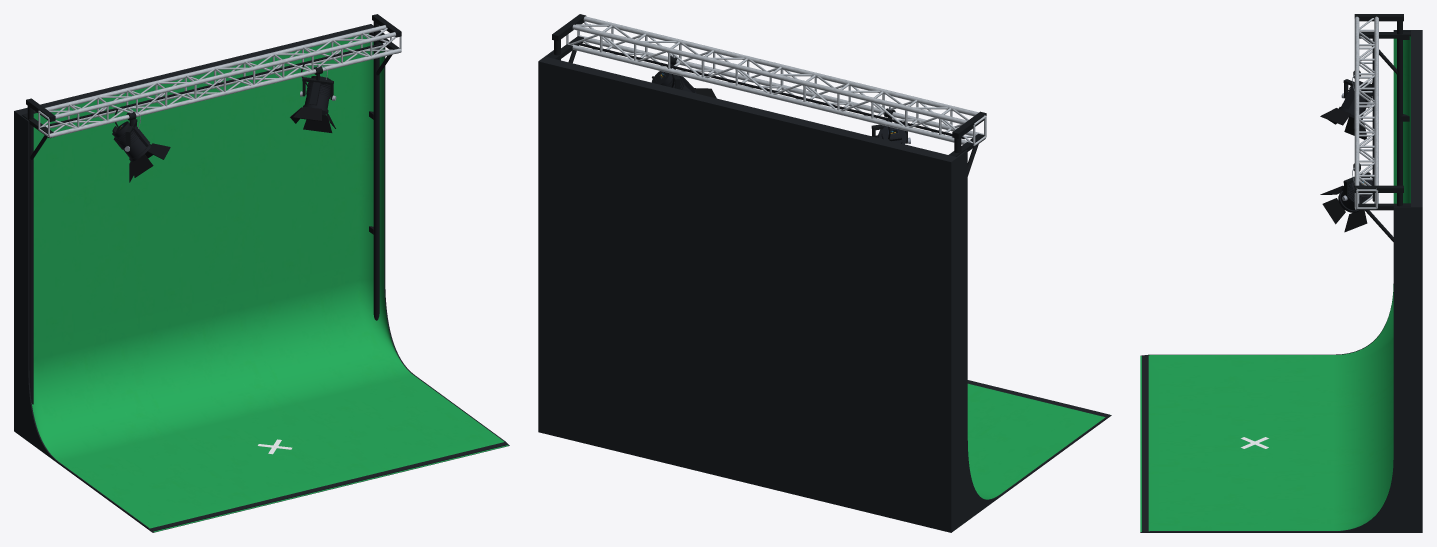
Rendered from Office_Studio_Cyclorama_Stage.glb.
3 renders of one model, left to right at view 1: azimuth 30°, elevation 25°; view 2: azimuth 150°, elevation 25°; view 3: azimuth 270°, elevation 25°, orthographic. The views are drawn at different scales.
Visible parts, largest first — view 1: ChromaKey_Infinity_Surface, Overhead_Aluminum_Box_Truss, Rear_Structural_Frame, Vertical_Truss_Stanchions, Apron_Under_Base, Truss_DMX_Power_Trunk, Lamp_Housing_Fins_L, Barn_Doors_4Leaf_R, Lamp_Housing_Fins_R, Barn_Doors_4Leaf_L; view 2: Rear_Structural_Frame, Overhead_Aluminum_Box_Truss, ChromaKey_Infinity_Surface, Vertical_Truss_Stanchions, Truss_DMX_Power_Trunk; view 3: ChromaKey_Infinity_Surface, Rear_Structural_Frame, Overhead_Aluminum_Box_Truss, Vertical_Truss_Stanchions, Apron_Under_Base, Barn_Doors_4Leaf_R, Barn_Doors_4Leaf_L, Lamp_Housing_Fins_R, Lamp_Housing_Fins_L, Truss_DMX_Power_Trunk.
Boxes of the visible parts, x1,y1,x2,y2 form: ChromaKey_Infinity_Surface: [31, 33, 508, 532]; Overhead_Aluminum_Box_Truss: [38, 25, 401, 138]; Rear_Structural_Frame: [14, 24, 509, 532]; Vertical_Truss_Stanchions: [22, 14, 401, 404]; Apron_Under_Base: [150, 442, 507, 531]; Truss_DMX_Power_Trunk: [50, 43, 383, 126]; Lamp_Housing_Fins_L: [112, 121, 151, 161]; Barn_Doors_4Leaf_R: [290, 106, 335, 132]; Lamp_Housing_Fins_R: [303, 76, 331, 114]; Barn_Doors_4Leaf_L: [129, 143, 170, 182]; Rear_Structural_Frame: [538, 50, 1111, 532]; Overhead_Aluminum_Box_Truss: [566, 16, 986, 145]; ChromaKey_Infinity_Surface: [967, 383, 1105, 499]; Vertical_Truss_Stanchions: [548, 14, 986, 176]; Truss_DMX_Power_Trunk: [579, 43, 964, 139]; ChromaKey_Infinity_Surface: [1140, 36, 1410, 531]; Rear_Structural_Frame: [1140, 30, 1422, 532]; Overhead_Aluminum_Box_Truss: [1354, 16, 1378, 209]; Vertical_Truss_Stanchions: [1354, 14, 1410, 241]; Apron_Under_Base: [1142, 355, 1148, 531]; Barn_Doors_4Leaf_R: [1320, 185, 1367, 232]; Barn_Doors_4Leaf_L: [1320, 108, 1366, 139]; Lamp_Housing_Fins_R: [1338, 177, 1372, 212]; Lamp_Housing_Fins_L: [1339, 81, 1372, 119]; Truss_DMX_Power_Trunk: [1372, 35, 1374, 201].
Bounding box in the file's own units: 2.6 × 2.35 × 1.75.
13 materials, 4 textured.
